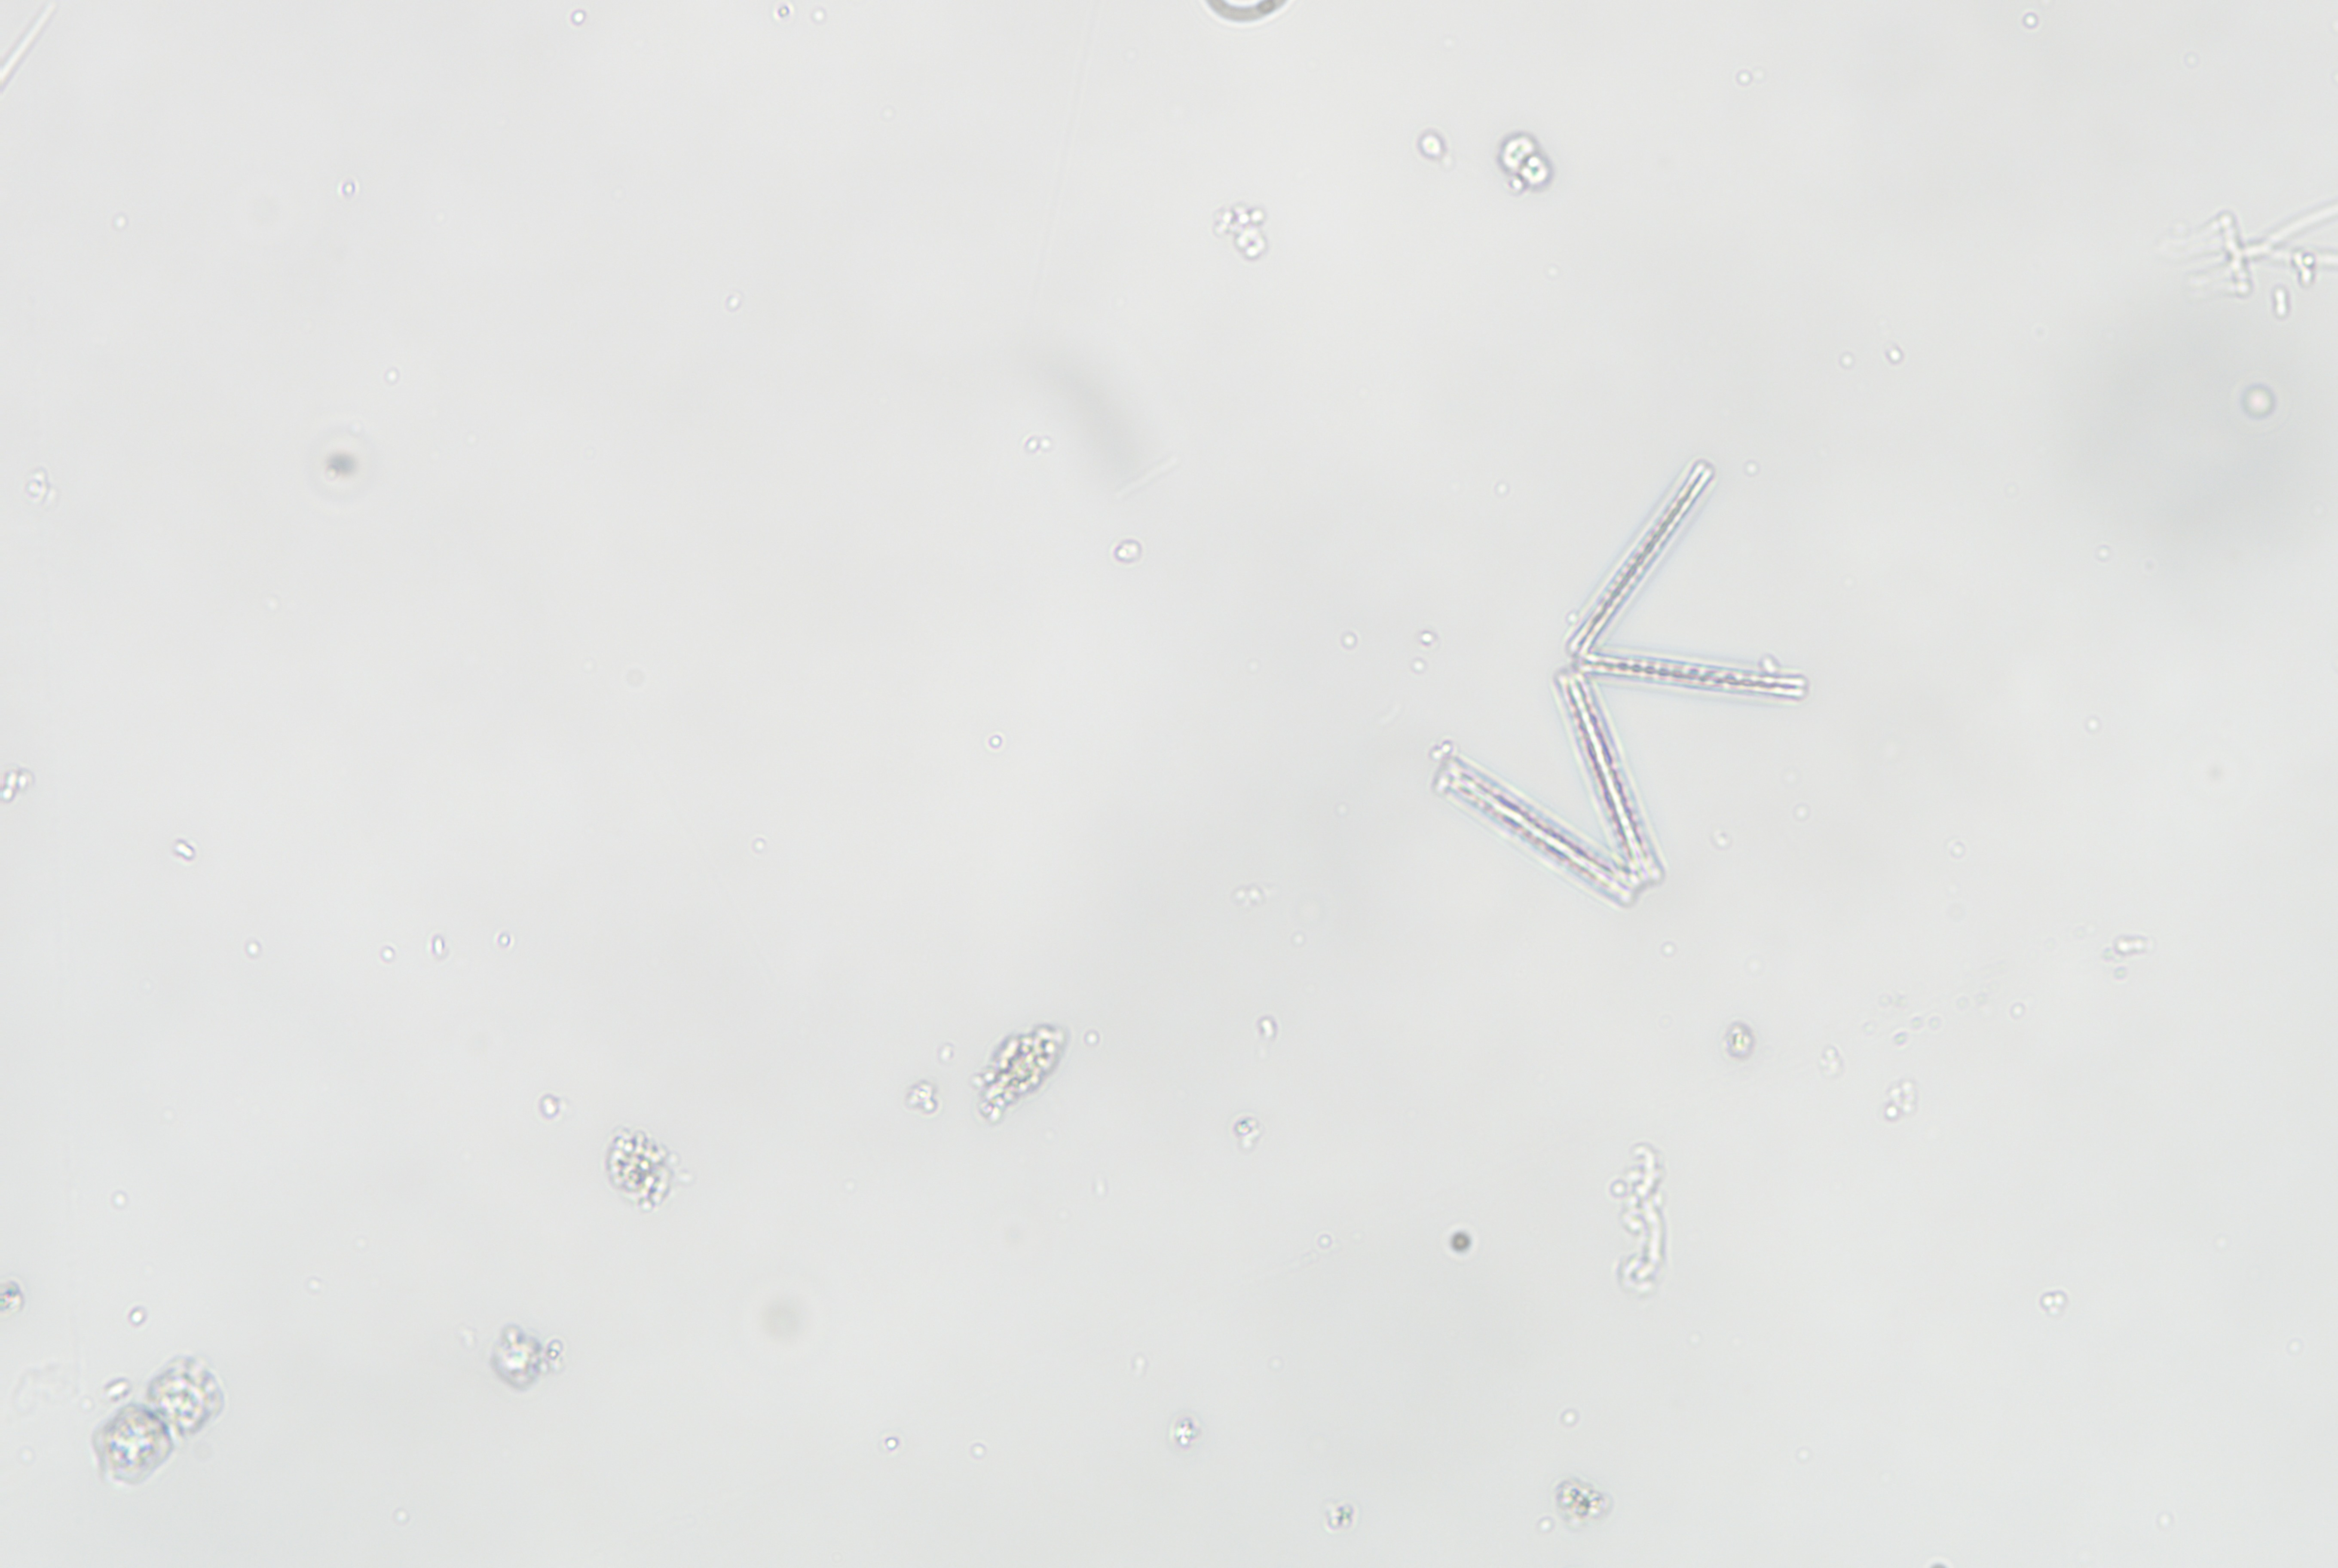thalassionema nitzschioides: (1367, 388, 1872, 968)
